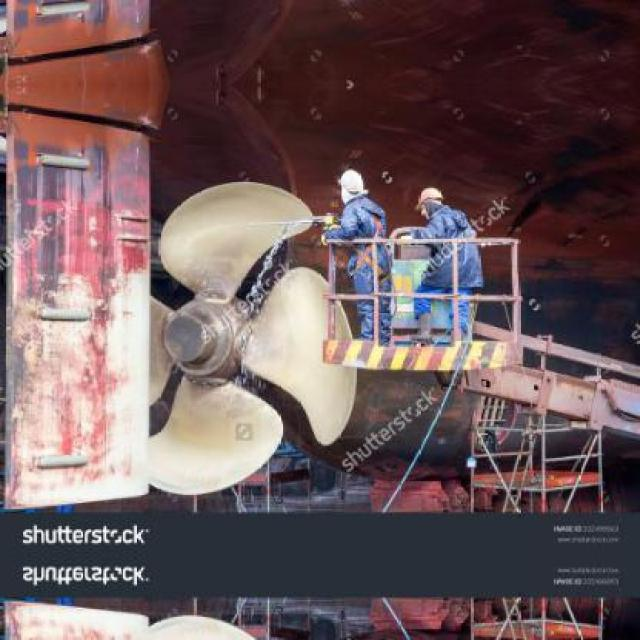helmet: (336, 162, 370, 202), (410, 184, 448, 219), (335, 0, 371, 8)
